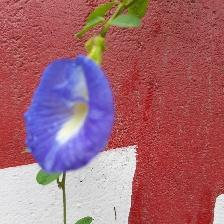shankupushpam: (21, 52, 124, 182)
